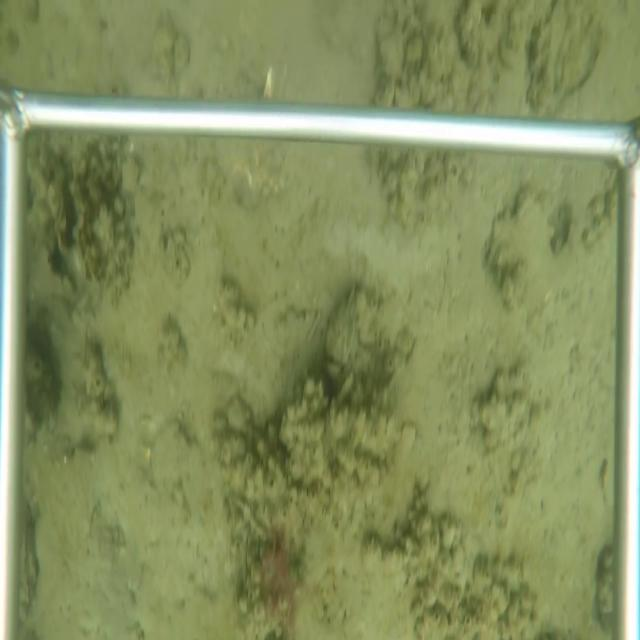Oyster-Indeterminate: (485, 198, 555, 277), (145, 417, 195, 496)
